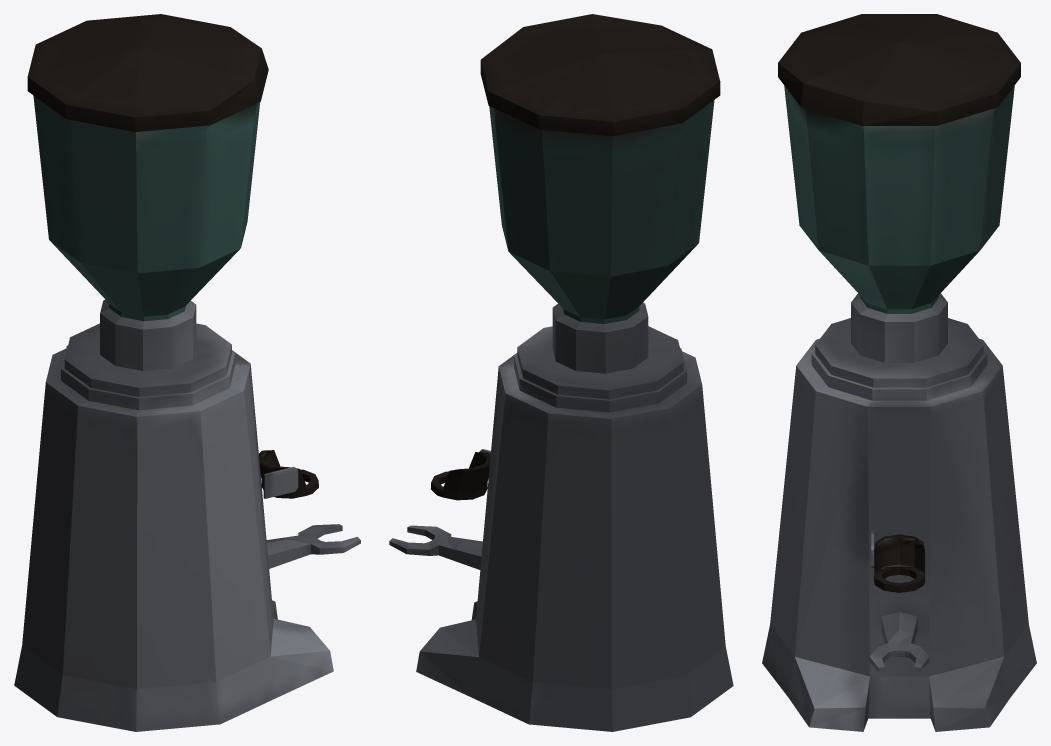
The model's file is Tx_props_coffee_bean_machine_44.fbx.
The picture shows the model from 3 angles, left to right: view 1: azimuth 30°, elevation 25°; view 2: azimuth 150°, elevation 25°; view 3: azimuth 270°, elevation 25°; orthographic projection.
Visible parts, largest first — view 1: Tx_props_coffee_bean_machine; view 2: Tx_props_coffee_bean_machine; view 3: Tx_props_coffee_bean_machine.
Boxes of the visible parts, box(x1,y1,x2,y2) form: Tx_props_coffee_bean_machine: box(14, 14, 360, 731); Tx_props_coffee_bean_machine: box(389, 14, 733, 731); Tx_props_coffee_bean_machine: box(762, 14, 1036, 731).
Bounding box in the file's own units: 2.4 × 4.57 × 1.84.
